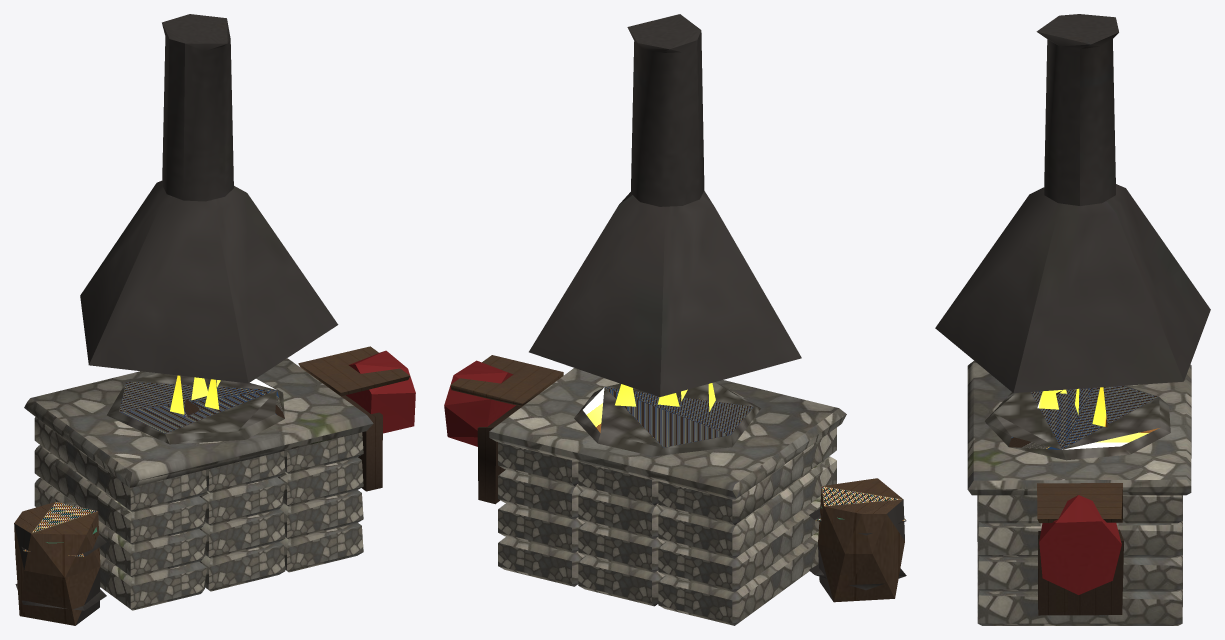
The model's file is forge_lod2.glb.
3 views of the same model, side by side, from view 1: azimuth 30°, elevation 25°; view 2: azimuth 150°, elevation 25°; view 3: azimuth 270°, elevation 25° (orthographic). The views are drawn at different scales.
Visible parts, largest first — view 1: forge; view 2: forge; view 3: forge.
Boxes of the visible parts, x1,y1,x2,y2 form: forge: [14, 14, 415, 625]; forge: [444, 14, 906, 625]; forge: [935, 14, 1210, 625].
Bounding box in the file's own units: 2.84 × 3.5 × 1.61.
1 material, 1 textured.
